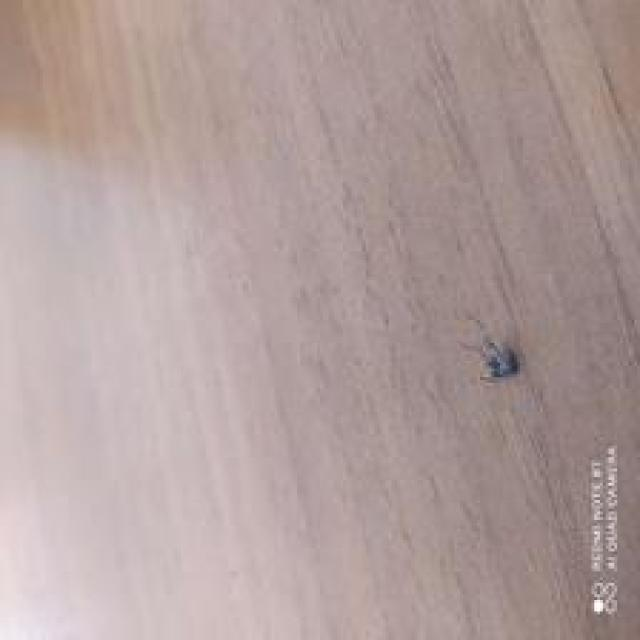Aedes albopictus: (478, 337, 518, 380)
